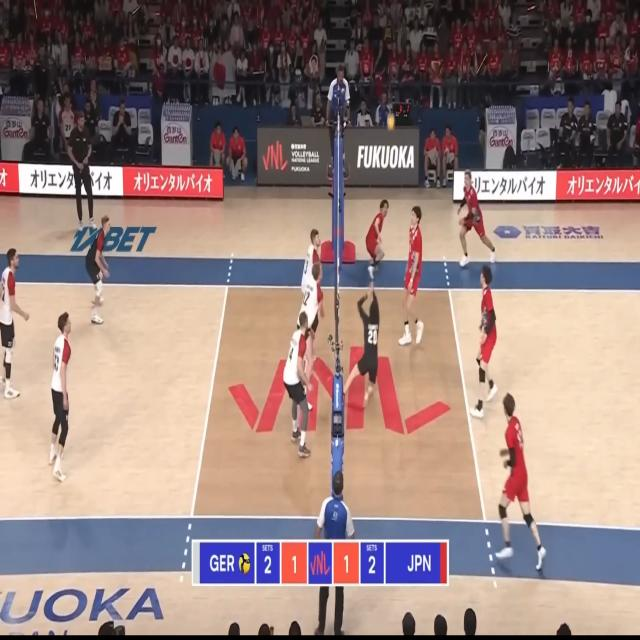ball: (388, 114, 394, 130)
